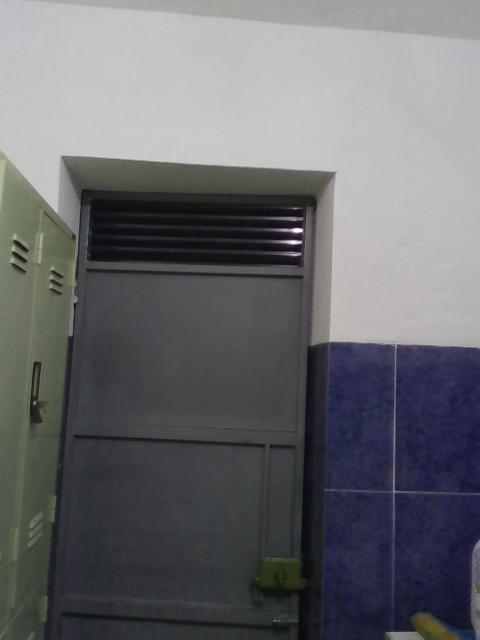closed_door: (44, 189, 314, 638)
